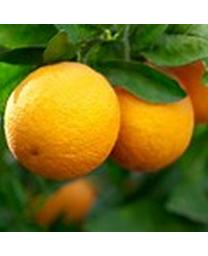lemon: (6, 65, 121, 181), (105, 66, 193, 174)
